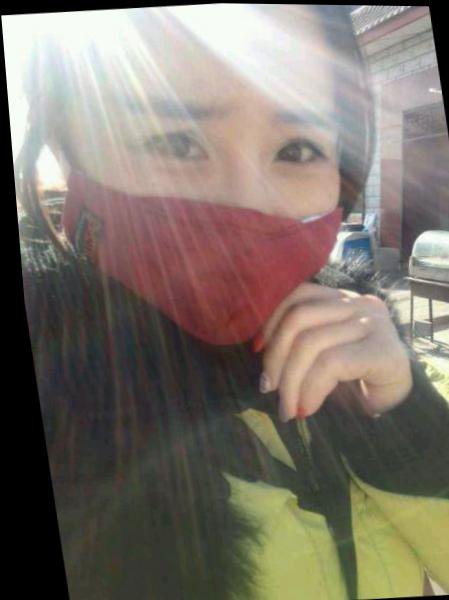WRONG: (73, 68, 371, 356)
